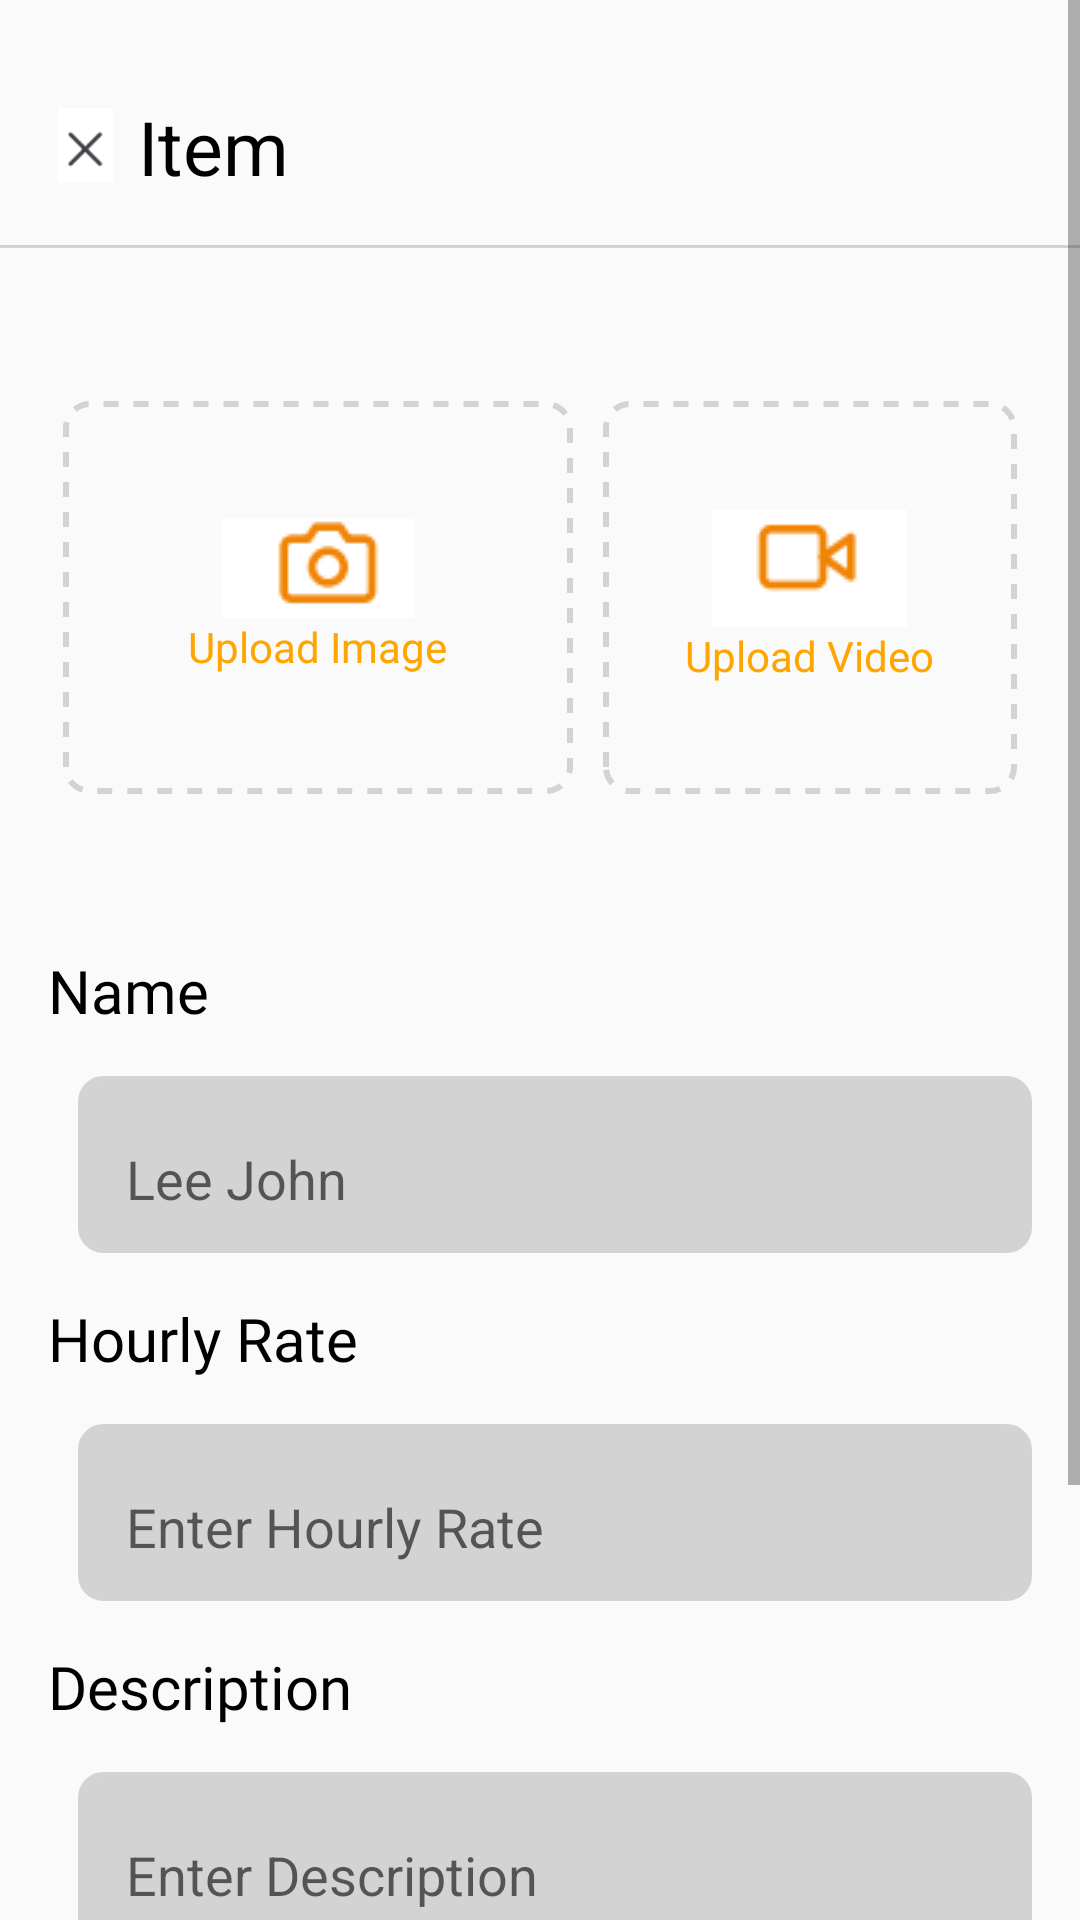

Screen size 1080 x 1920. Icon name, then its center in pixels as point (x, y):
camo: point (328, 562)
cross: point (85, 149)
vido: point (806, 558)
